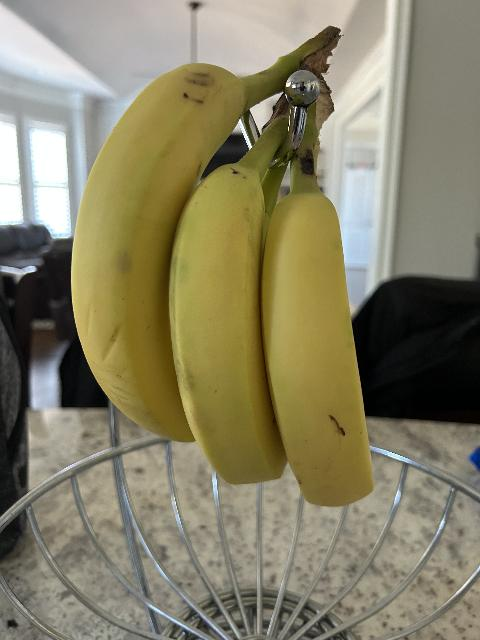Bananas: (72, 64, 206, 452), (170, 128, 284, 486), (264, 163, 374, 505)
